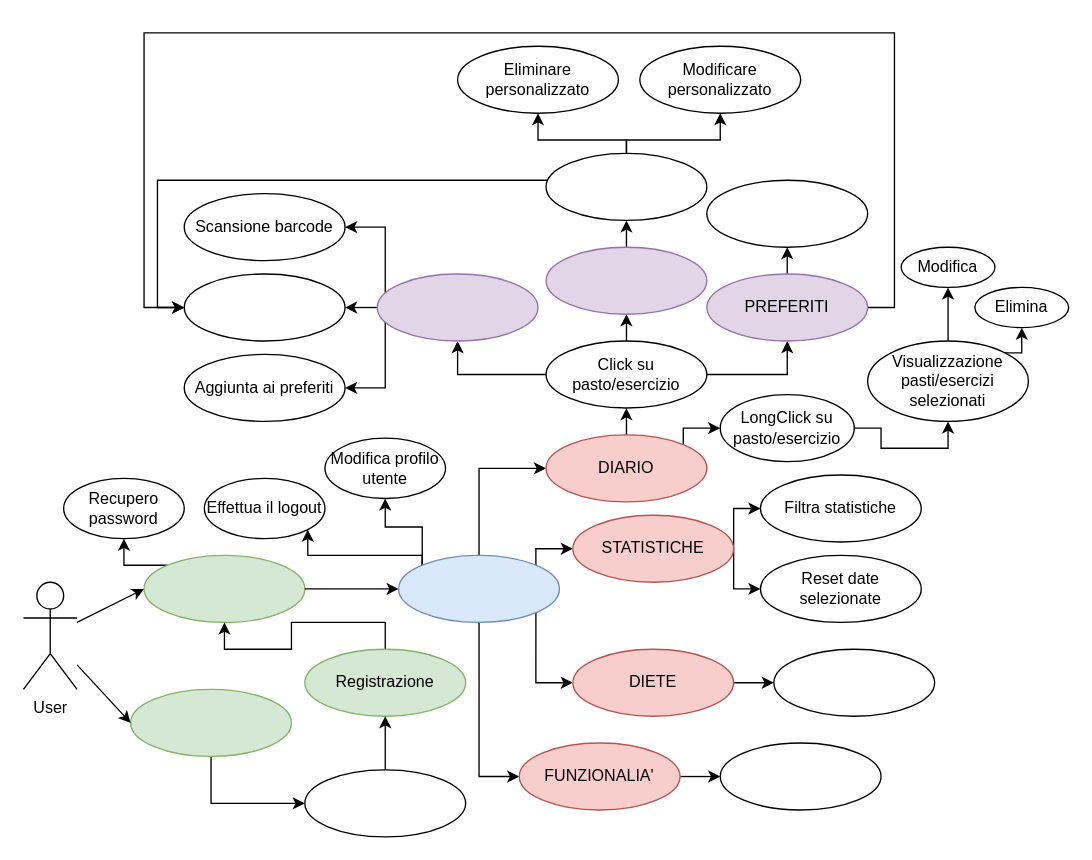
The diagram is 1092 pixels wide and 860 high, and some of its shapes have lost their labels. The centre of each missing label's shape, as x and y in pixels:
Accedi: (x=224, y=588)
Aggiunta al diario: (x=264, y=307)
Aggiunta personalizzato: (x=626, y=186)
Elimina preferito: (x=787, y=213)
Home: (x=478, y=588)
Inizia: (x=210, y=722)
Inserimento dati utente: (x=385, y=802)
PERSONALIZZATI: (x=626, y=280)
RICERCA: (x=457, y=307)
Seleziona dieta: (x=854, y=682)
Seleziona funzione: (x=800, y=776)
